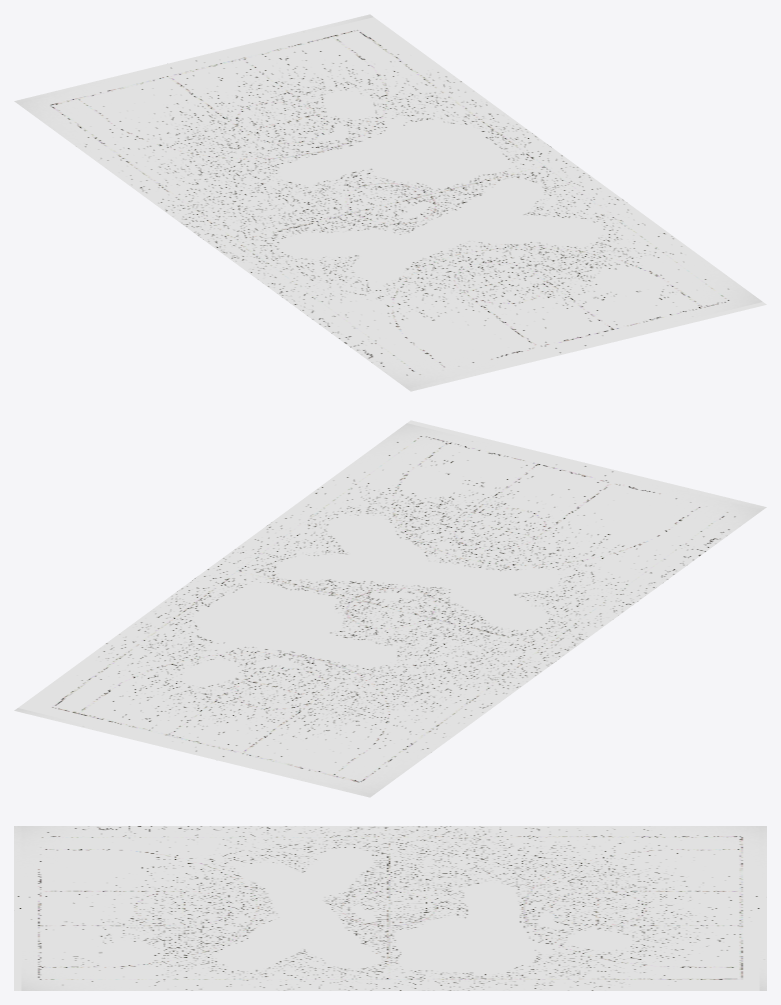
File: BasketbalcourtLines.fbx
3 views of the same model, one above another, from view 1: azimuth 30°, elevation 25°; view 2: azimuth 150°, elevation 25°; view 3: azimuth 270°, elevation 25° (orthographic). The views are drawn at different scales.
Visible parts, largest first — view 1: Plane01; view 2: Plane01; view 3: Plane01.
Part boxes in pixels (x1,y1,x2,y2): Plane01: [14, 14, 766, 391]; Plane01: [14, 420, 766, 797]; Plane01: [14, 826, 766, 990].
Bounding box in the file's own units: 100 × 0 × 193.
